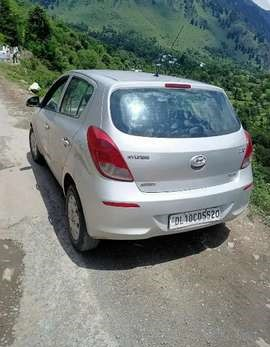DL10C05520: (169, 207, 221, 229)
